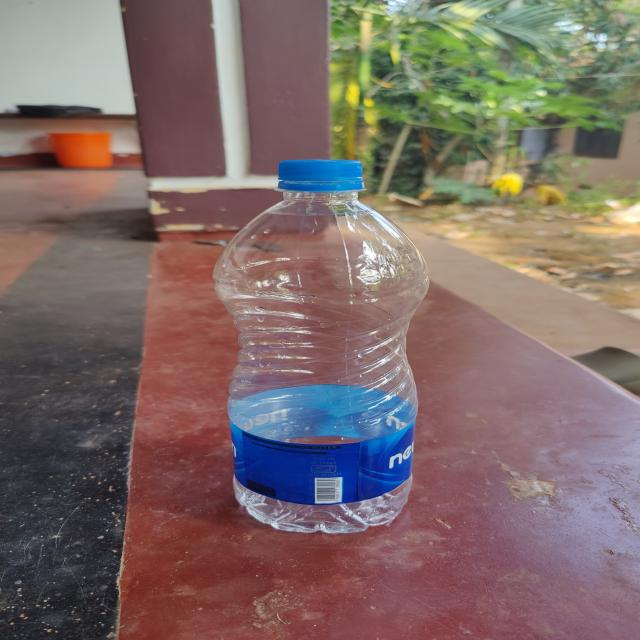plastic: (213, 155, 430, 541)
